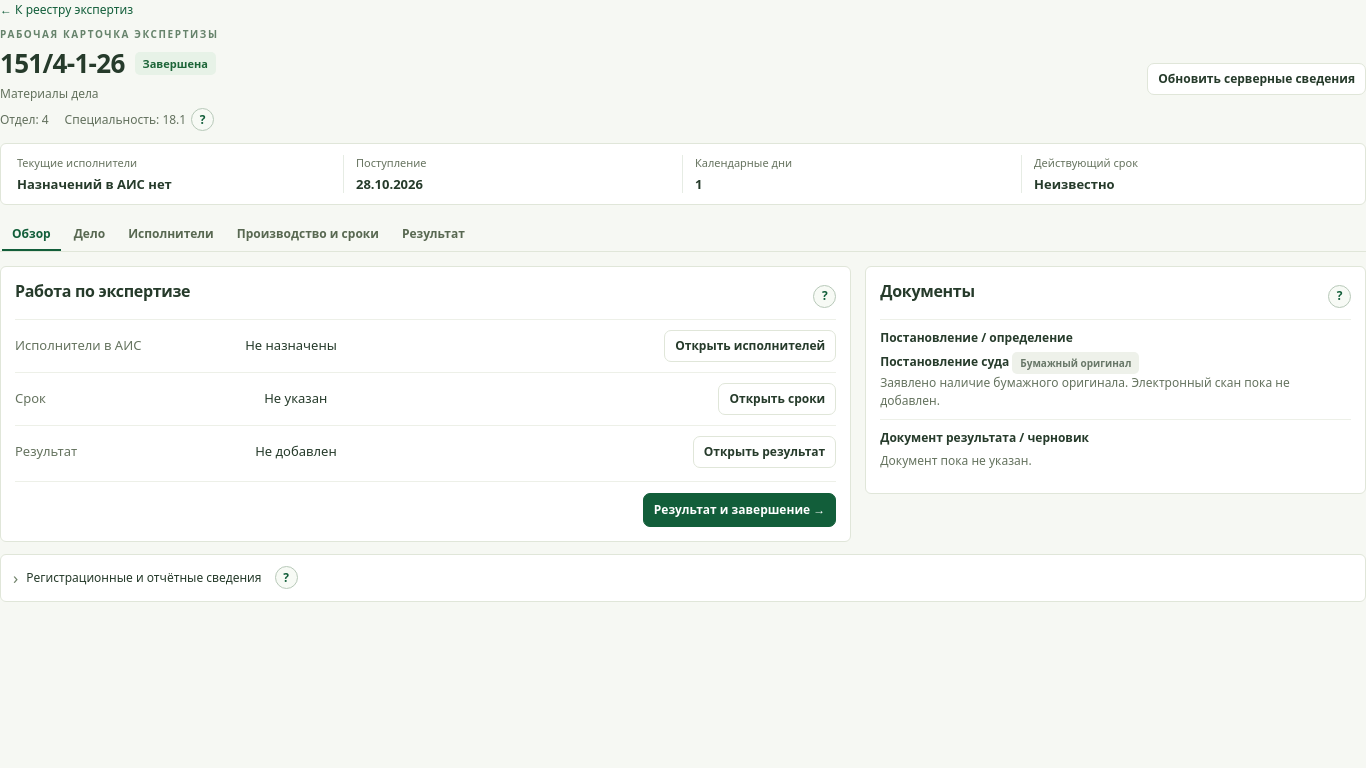
Test: return a completed expertise to work › integrates the command in the result tab and reports a newer completed state on replay truthfully
This screenshot has width=1366, height=768.
Click the tab "Результат" at (433, 235), box x1=392 y1=219 x2=475 y2=251
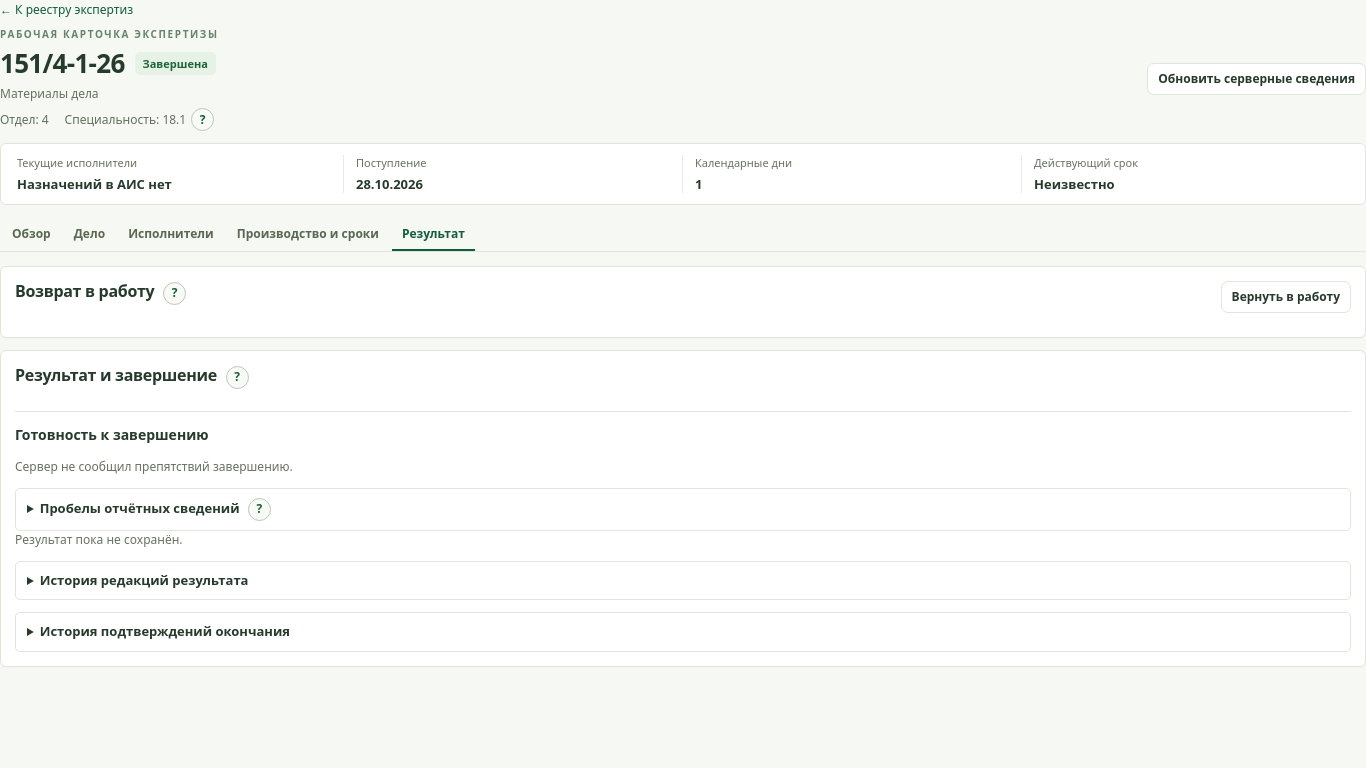
Check: the button "Вернуть в работу" is shown
Click the button "Вернуть в работу" at (1286, 297), box x1=1221 y1=281 x2=1351 y2=313
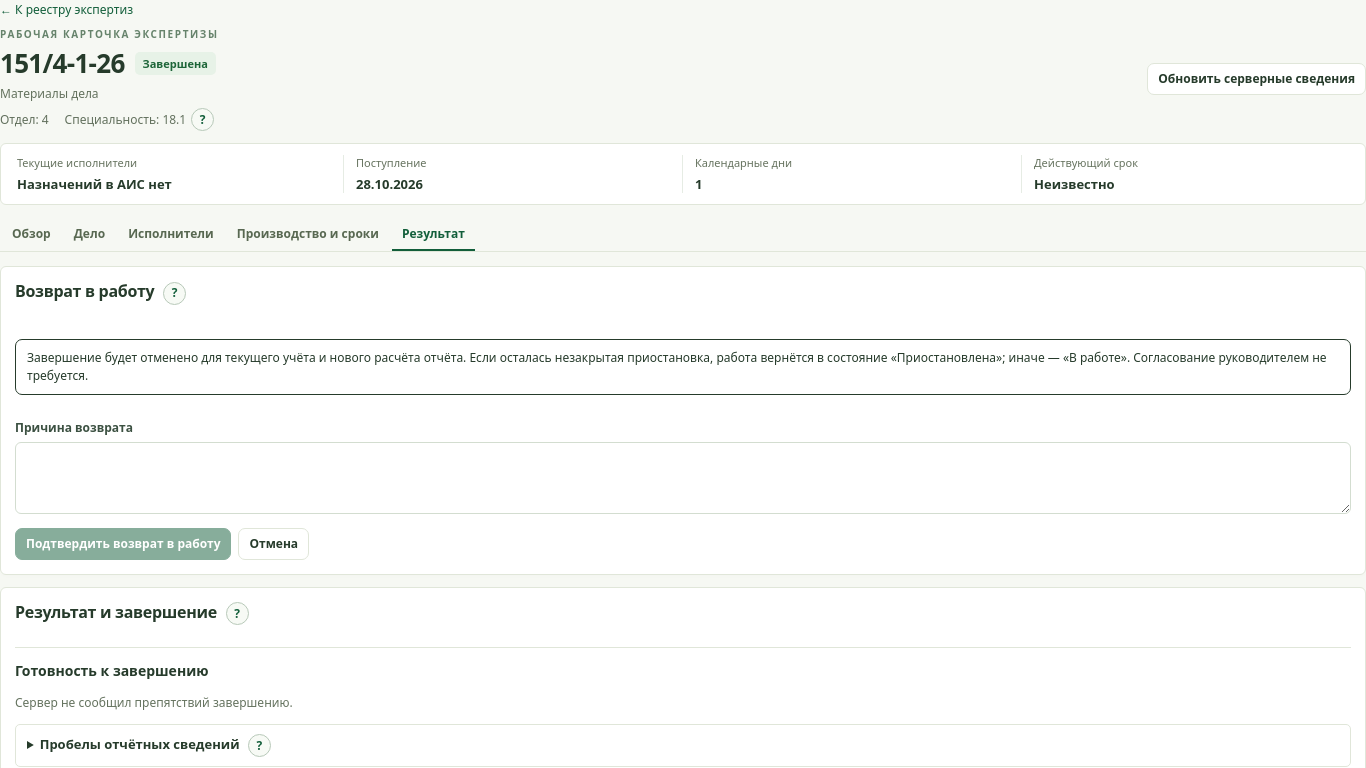
Type "  Нажали завершение по ошибке  " into the text box named "reopen_reason" at (683, 478), box x1=15 y1=442 x2=1351 y2=514
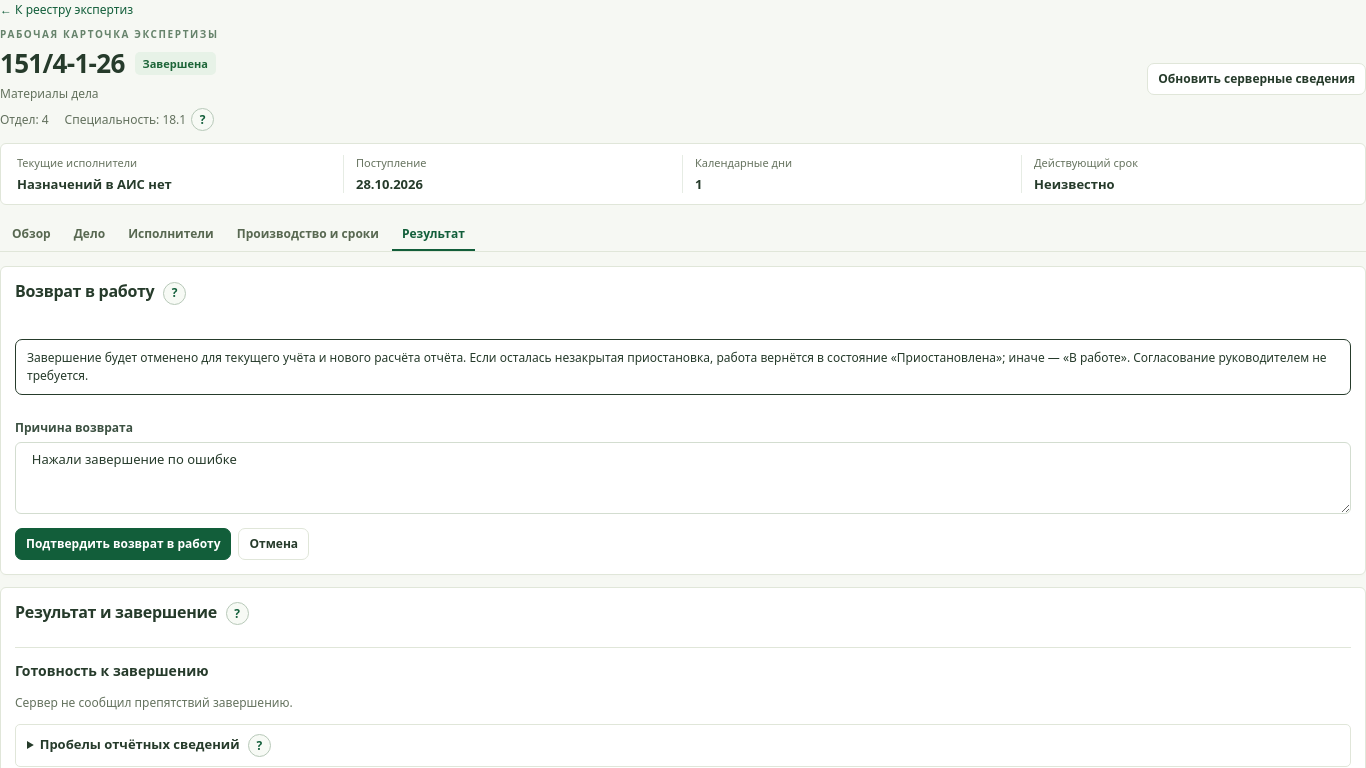
Submit the form, box x1=15 y1=328 x2=1351 y2=560
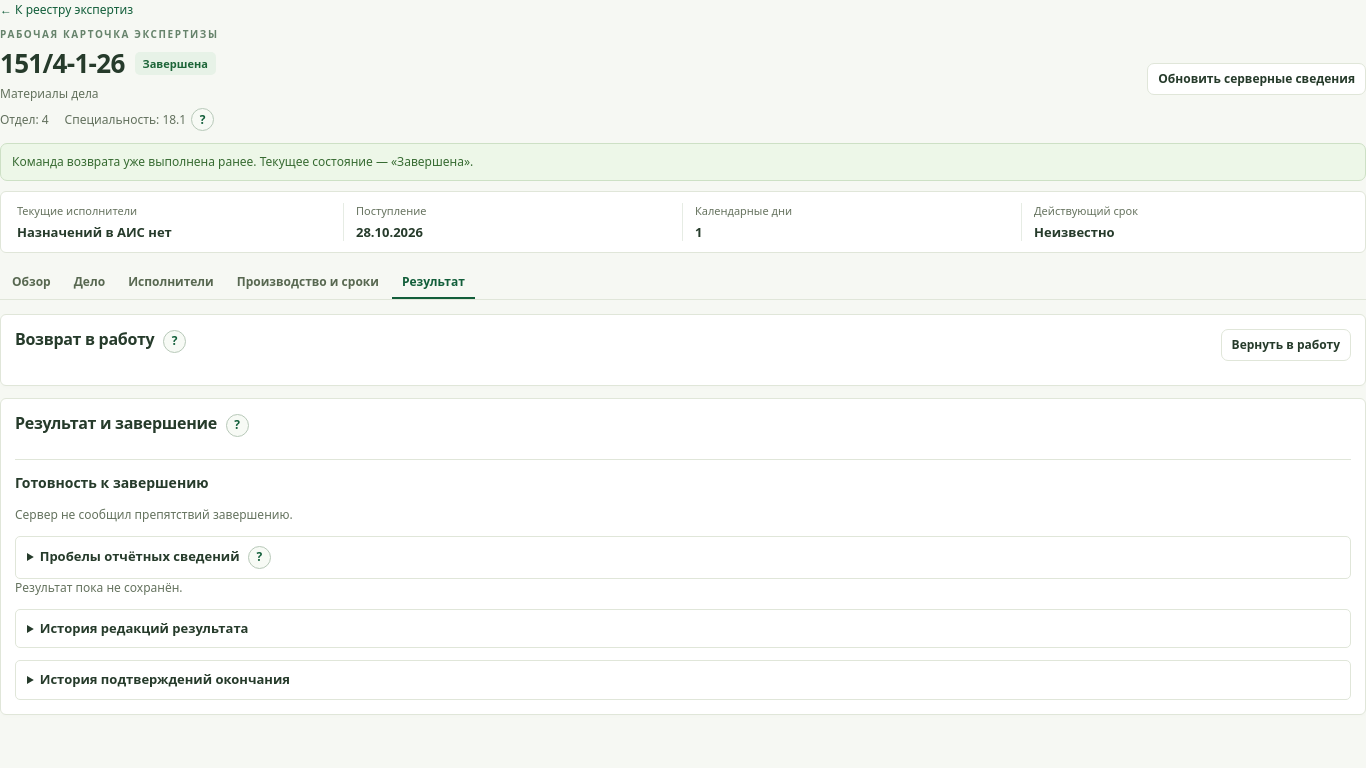
Check: the text "Команда возврата уже выполнена ранее. Текущее состояние — «Завершена»" is shown, box x1=12 y1=153 x2=473 y2=170
